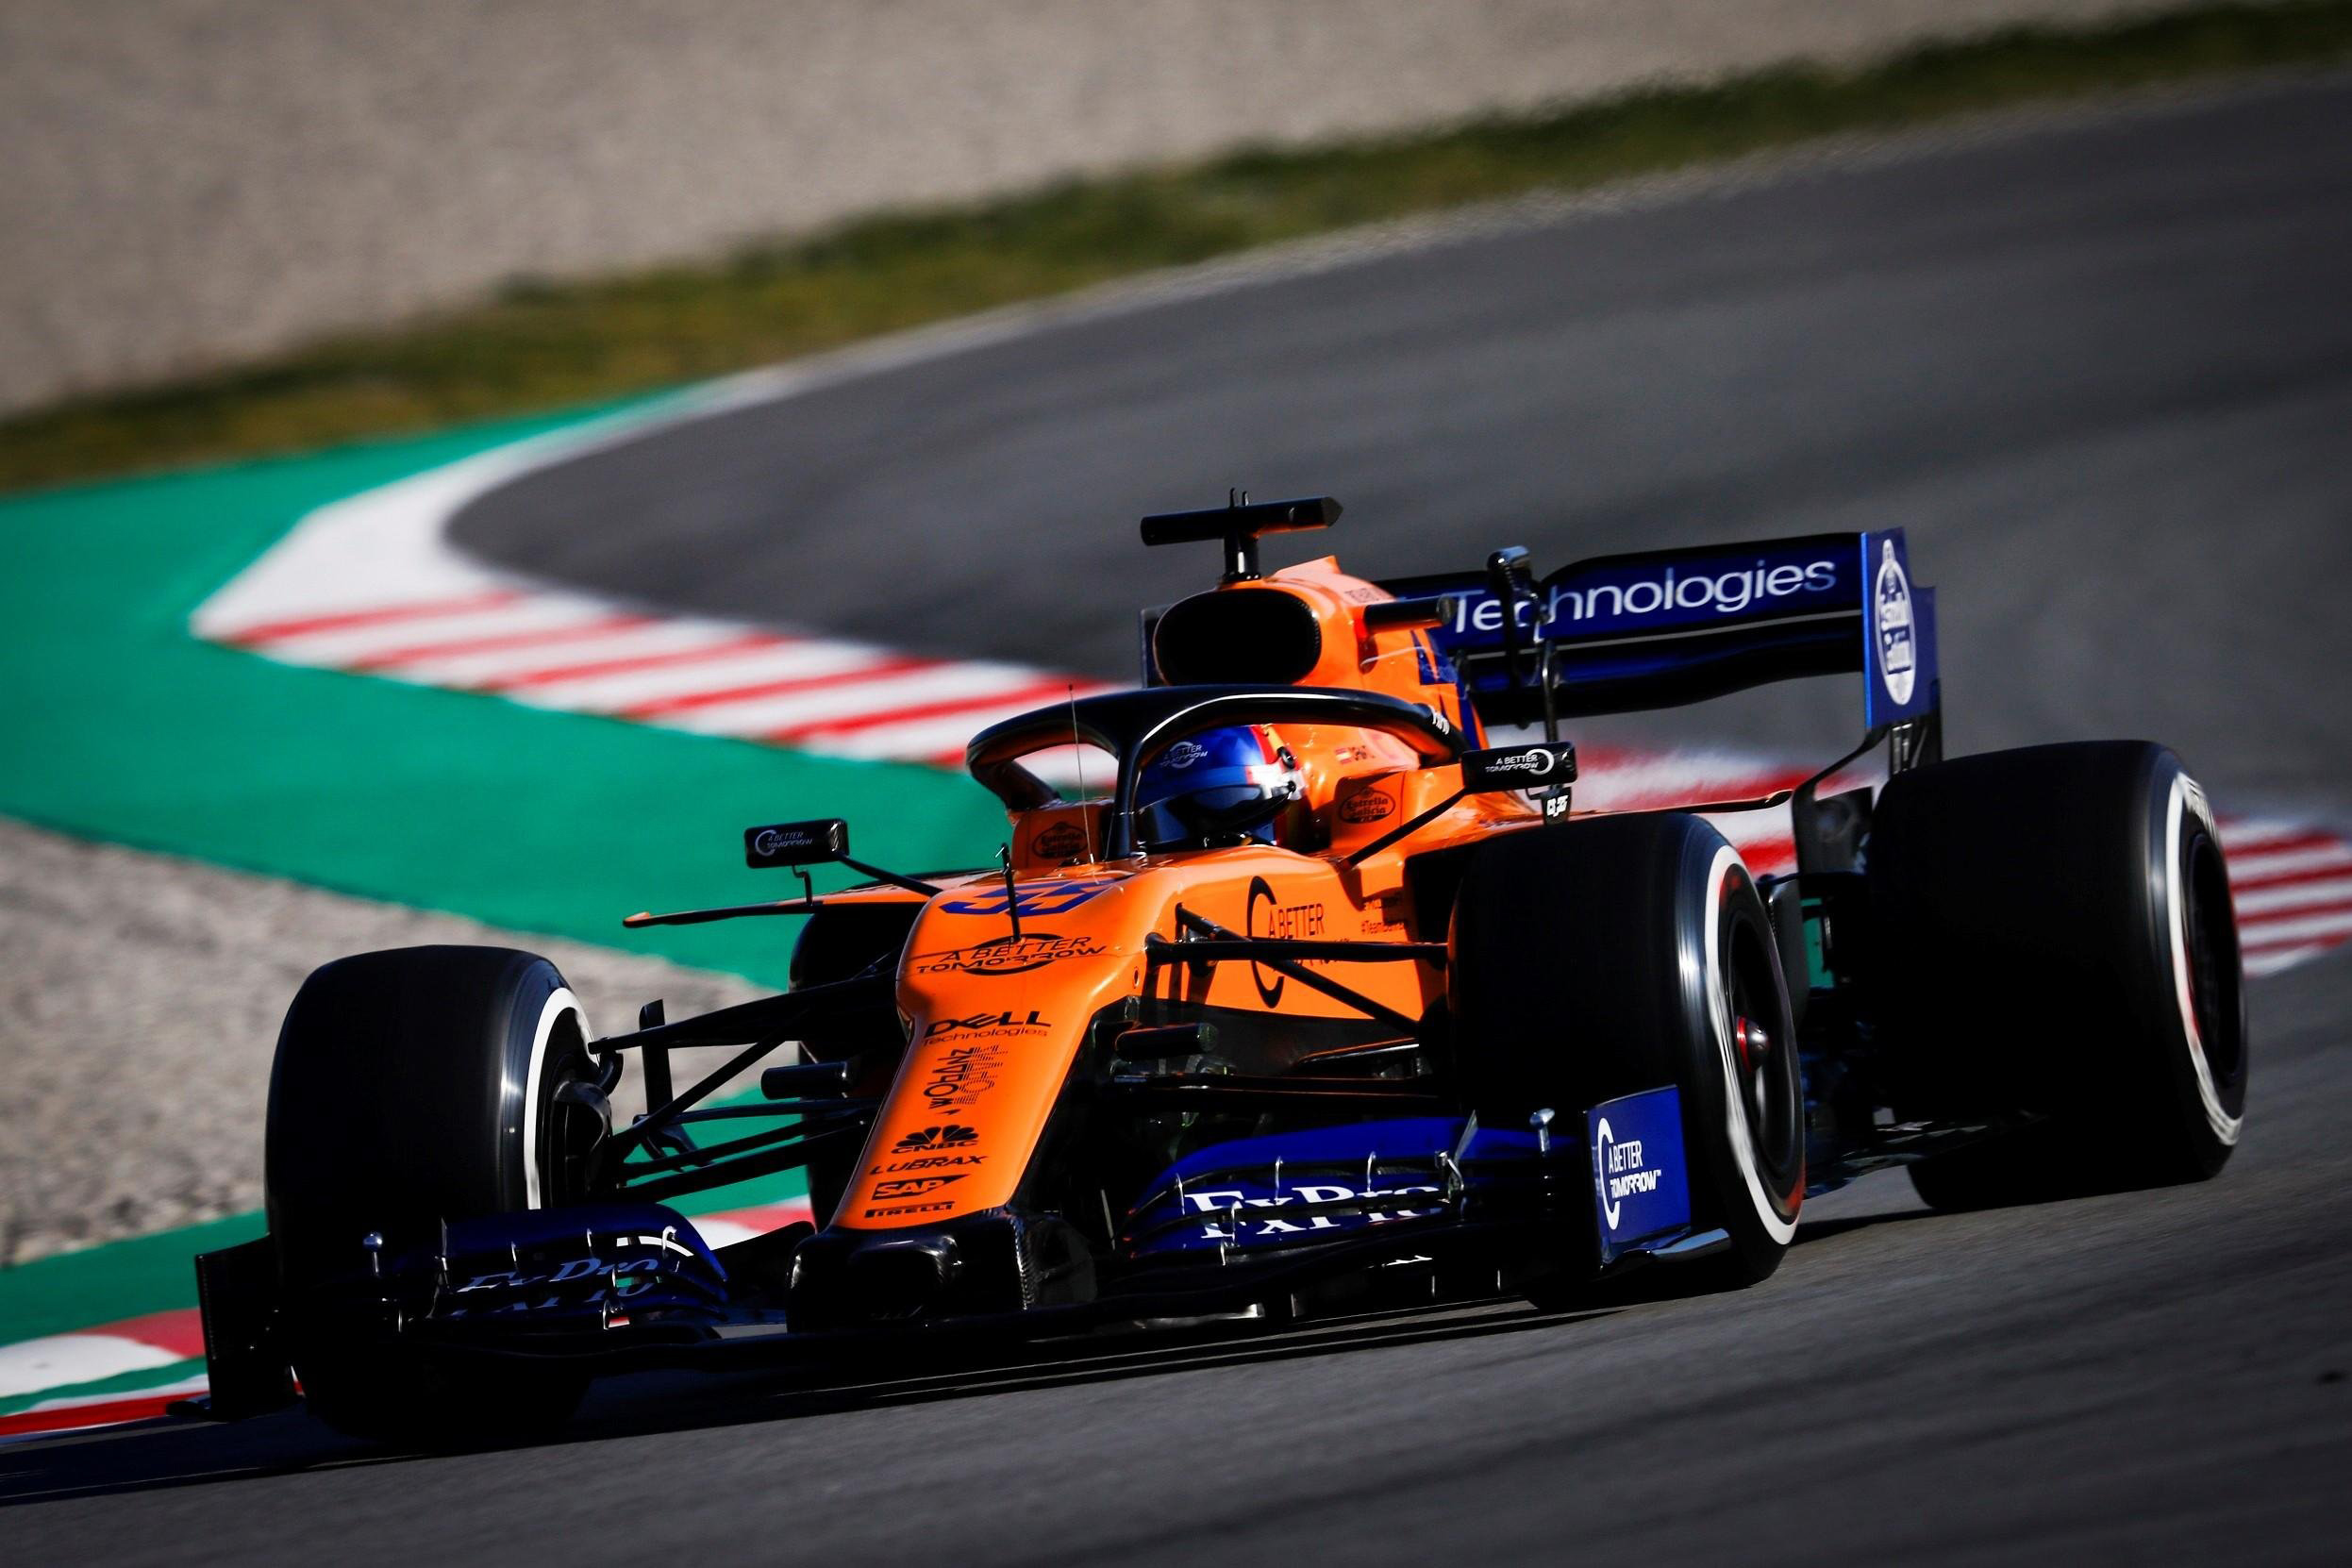F1 Car: (191, 465, 2270, 1431)
